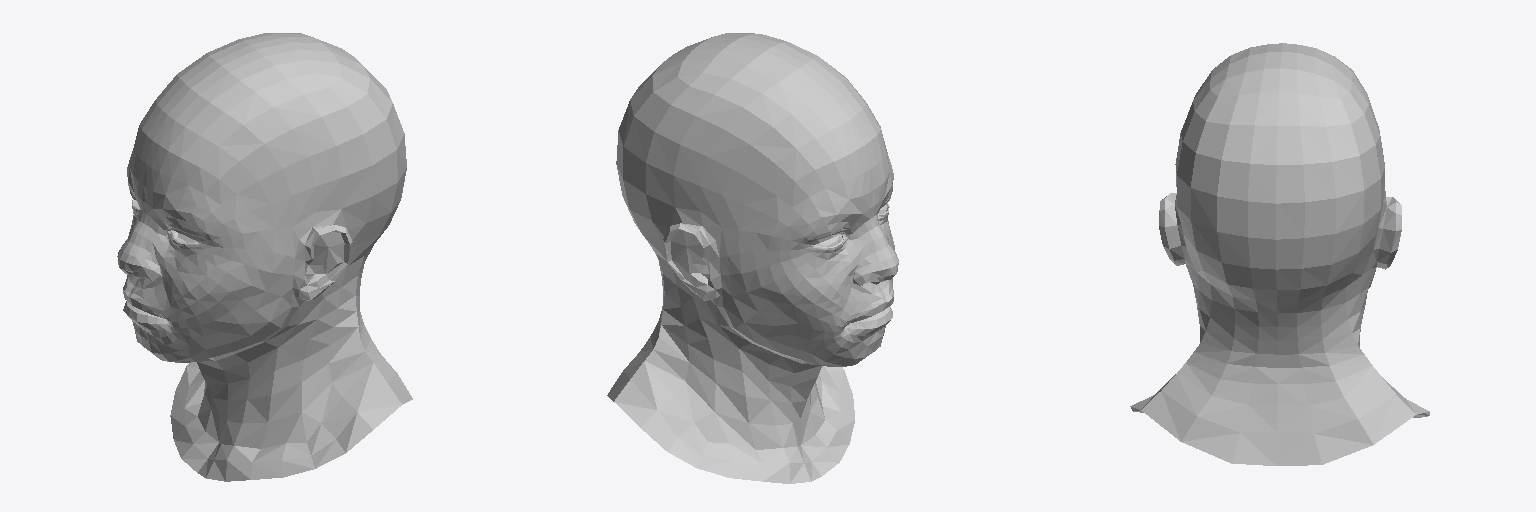
The model's file is head_rotated.obj.
The picture shows the model from 3 angles: view 1: azimuth 30°, elevation 25°; view 2: azimuth 150°, elevation 25°; view 3: azimuth 270°, elevation 25°; orthographic projection.
Parts seen in each view (by area): view 1: cube; view 2: cube; view 3: cube.
Part boxes in pixels (x1,y1,x2,y2): cube: (117,33,412,481); cube: (607,33,898,483); cube: (1130,43,1429,465).
Bounding box in the file's own units: 1.35 × 2 × 1.32.